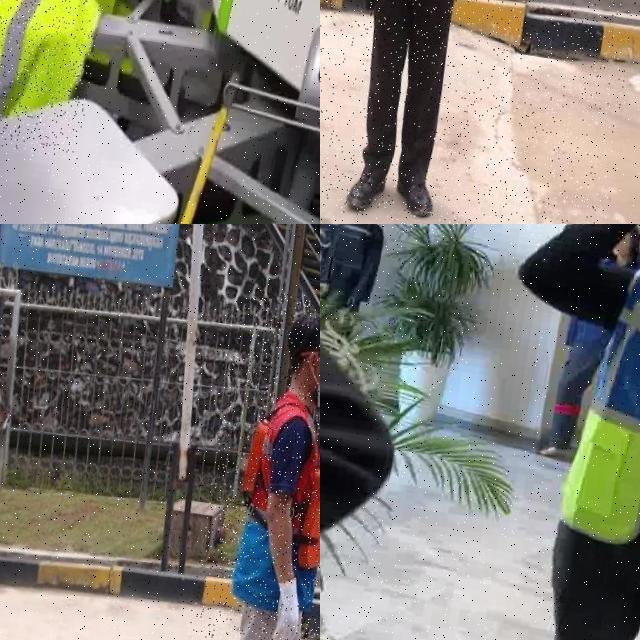boots: (342, 158, 393, 218), (392, 172, 440, 222)
vest: (547, 248, 640, 583), (227, 385, 320, 619), (0, 0, 106, 159)
